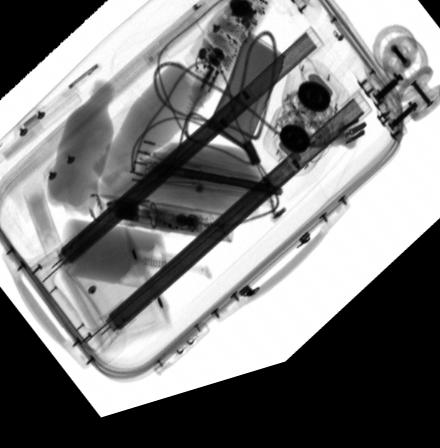Baton: (87, 198, 235, 257)
